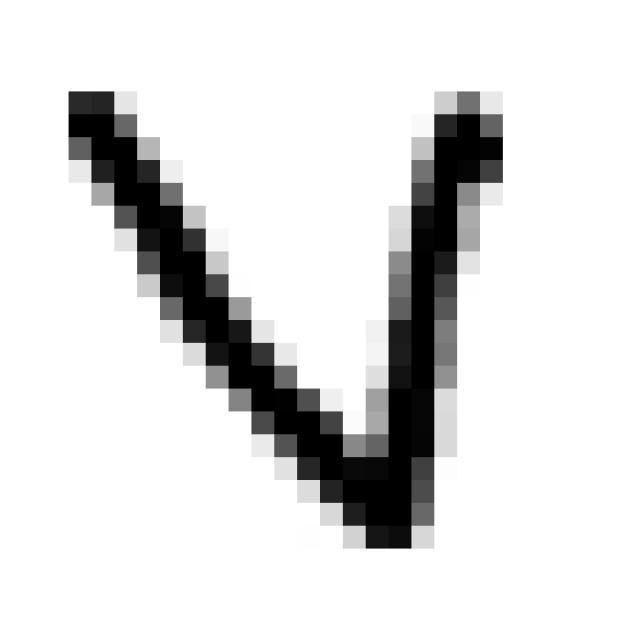7 -seven-: (46, 66, 516, 552)
